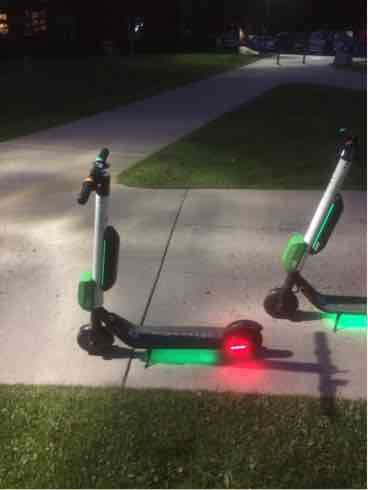scooter: (62, 135, 274, 380)
